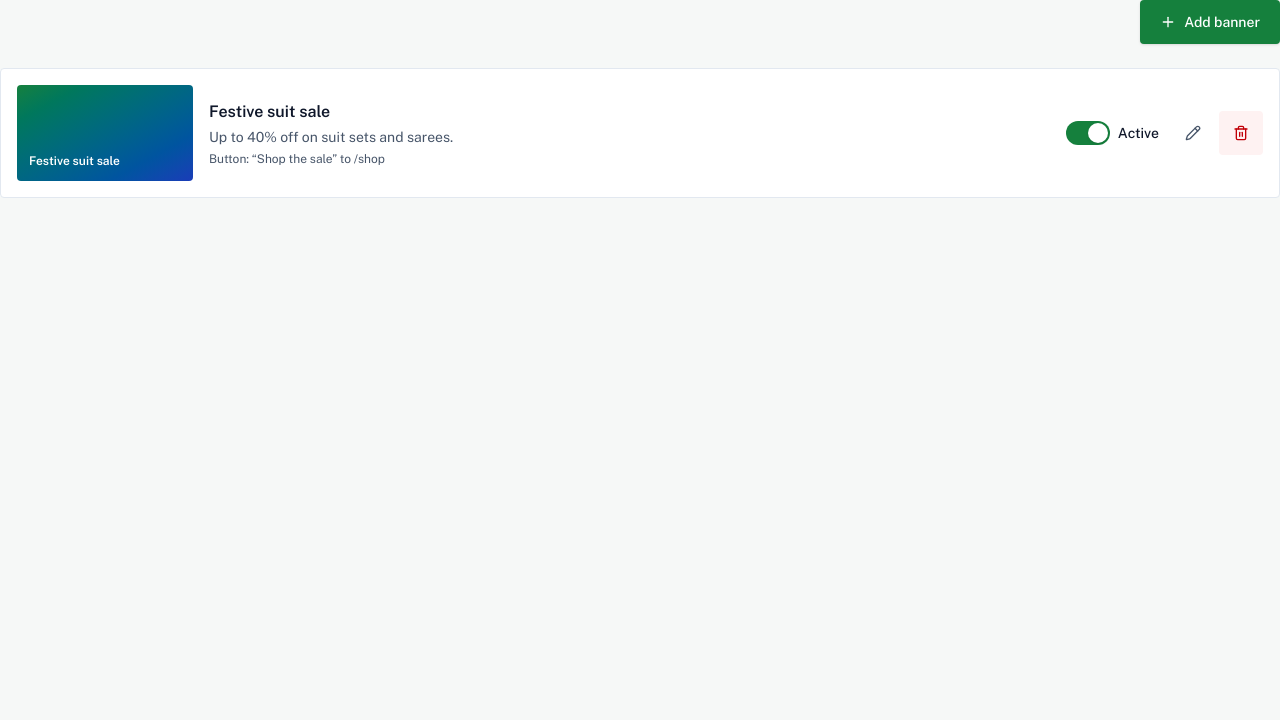
Test case: <BannerAdmin /> › rejects a button link that is neither a path nor a URL
Click the button named "Edit Festive suit sale".
click(1193, 133)  # box [1171,111,1215,155]
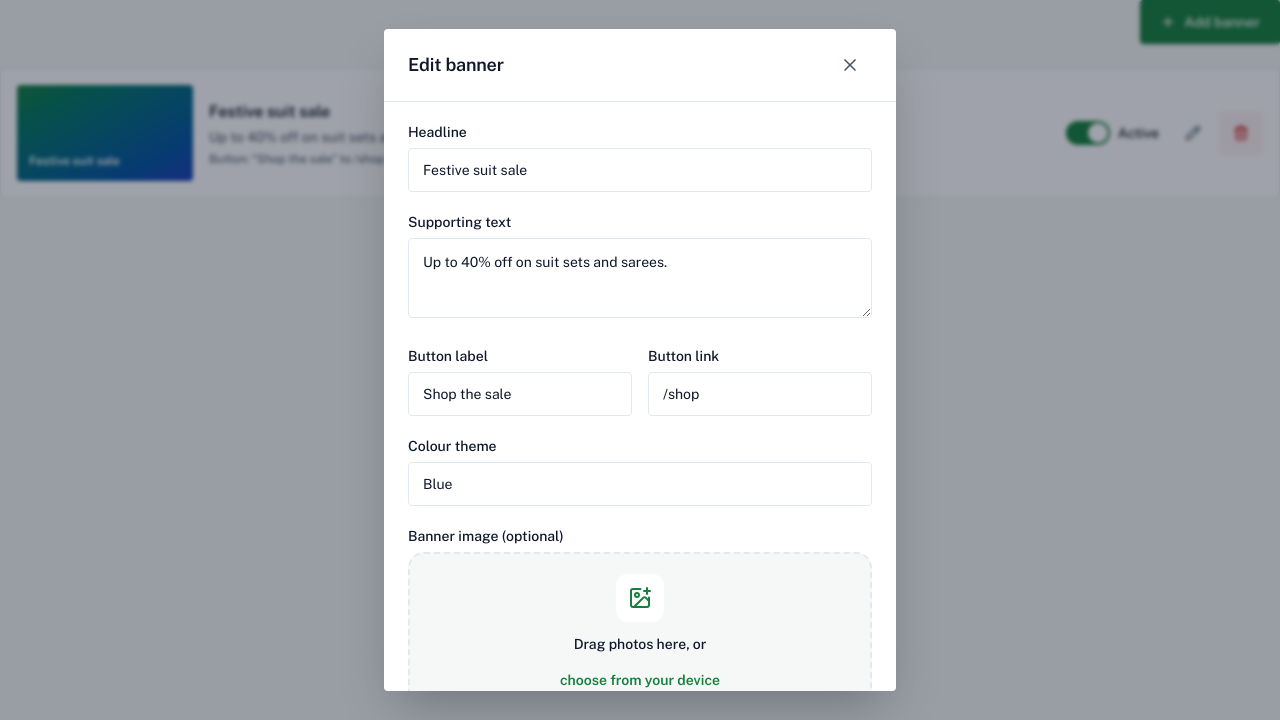
Replace the text in the field labelled "Button link" with "shop" at [760, 394], box [648,372,872,416]
(page scrolled)
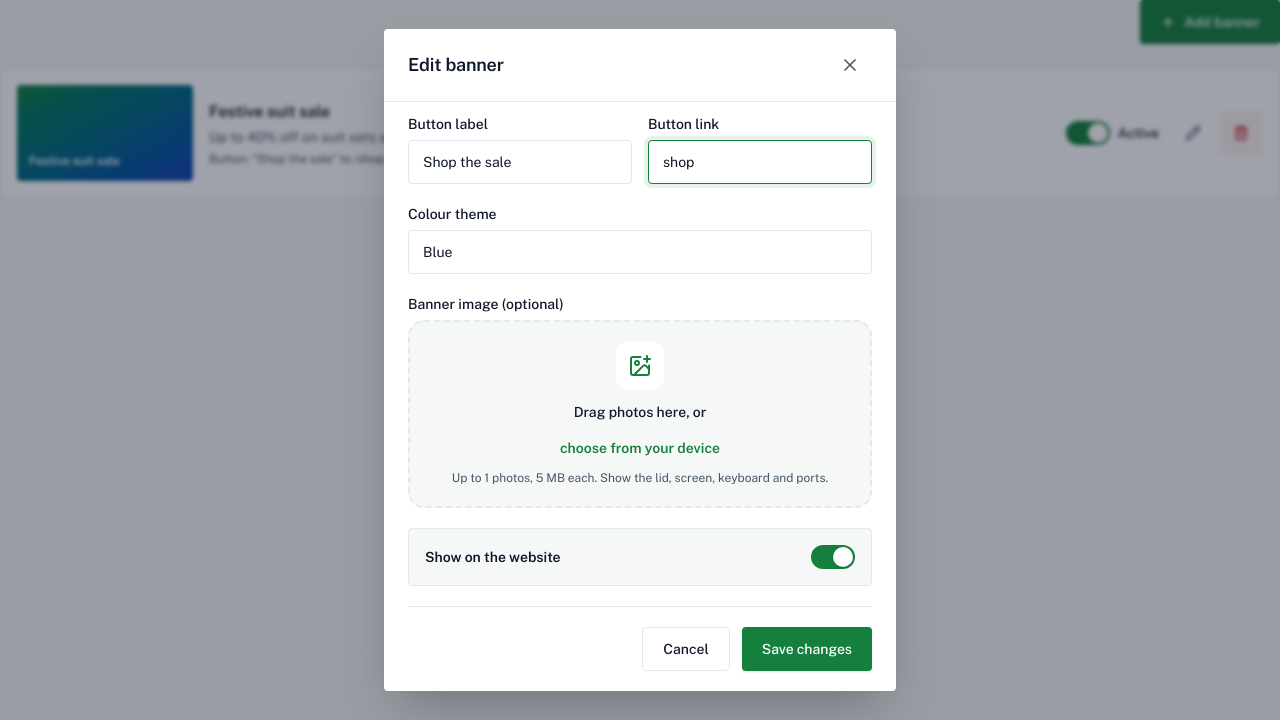
Click the button "Save changes".
click(807, 649)  # box [742,627,872,671]
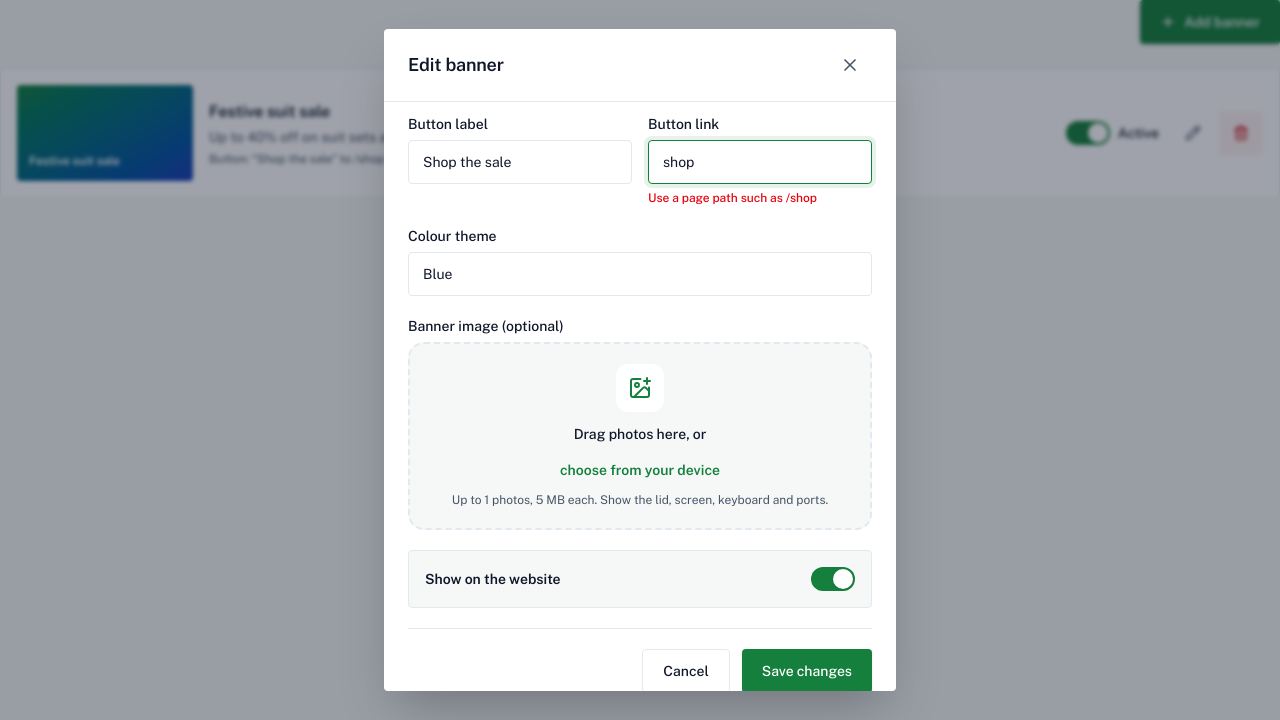
Expected: the text "Use a page path such as /shop" is shown, [648,191,817,205]
